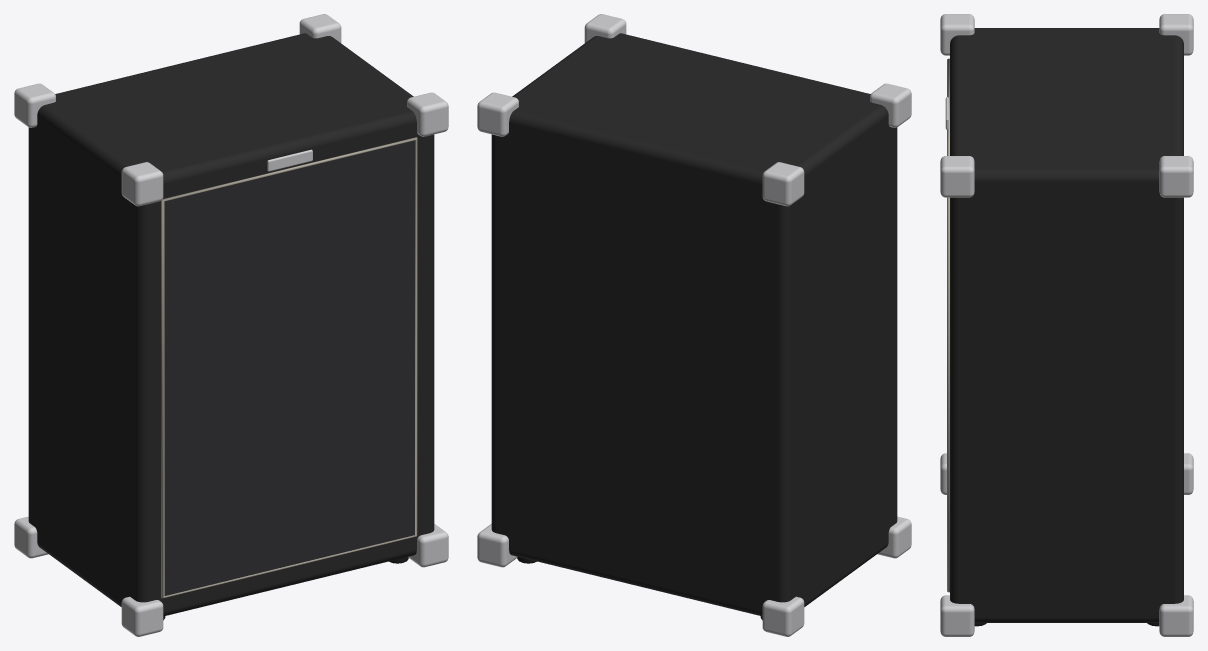
File: bass_cab.glb
3 views of the same model, side by side, from view 1: azimuth 30°, elevation 25°; view 2: azimuth 150°, elevation 25°; view 3: azimuth 270°, elevation 25° (orthographic). The views are drawn at different scales.
Parts seen in each view (by area): view 1: bass_cab; view 2: bass_cab; view 3: bass_cab.
Part boxes in pixels (x1,y1,x2,y2): bass_cab: (14,14,448,636); bass_cab: (477,14,911,636); bass_cab: (940,14,1193,636).
Bounding box in the file's own units: 0.696 × 0.978 × 0.476.
5 materials, 1 textured.
